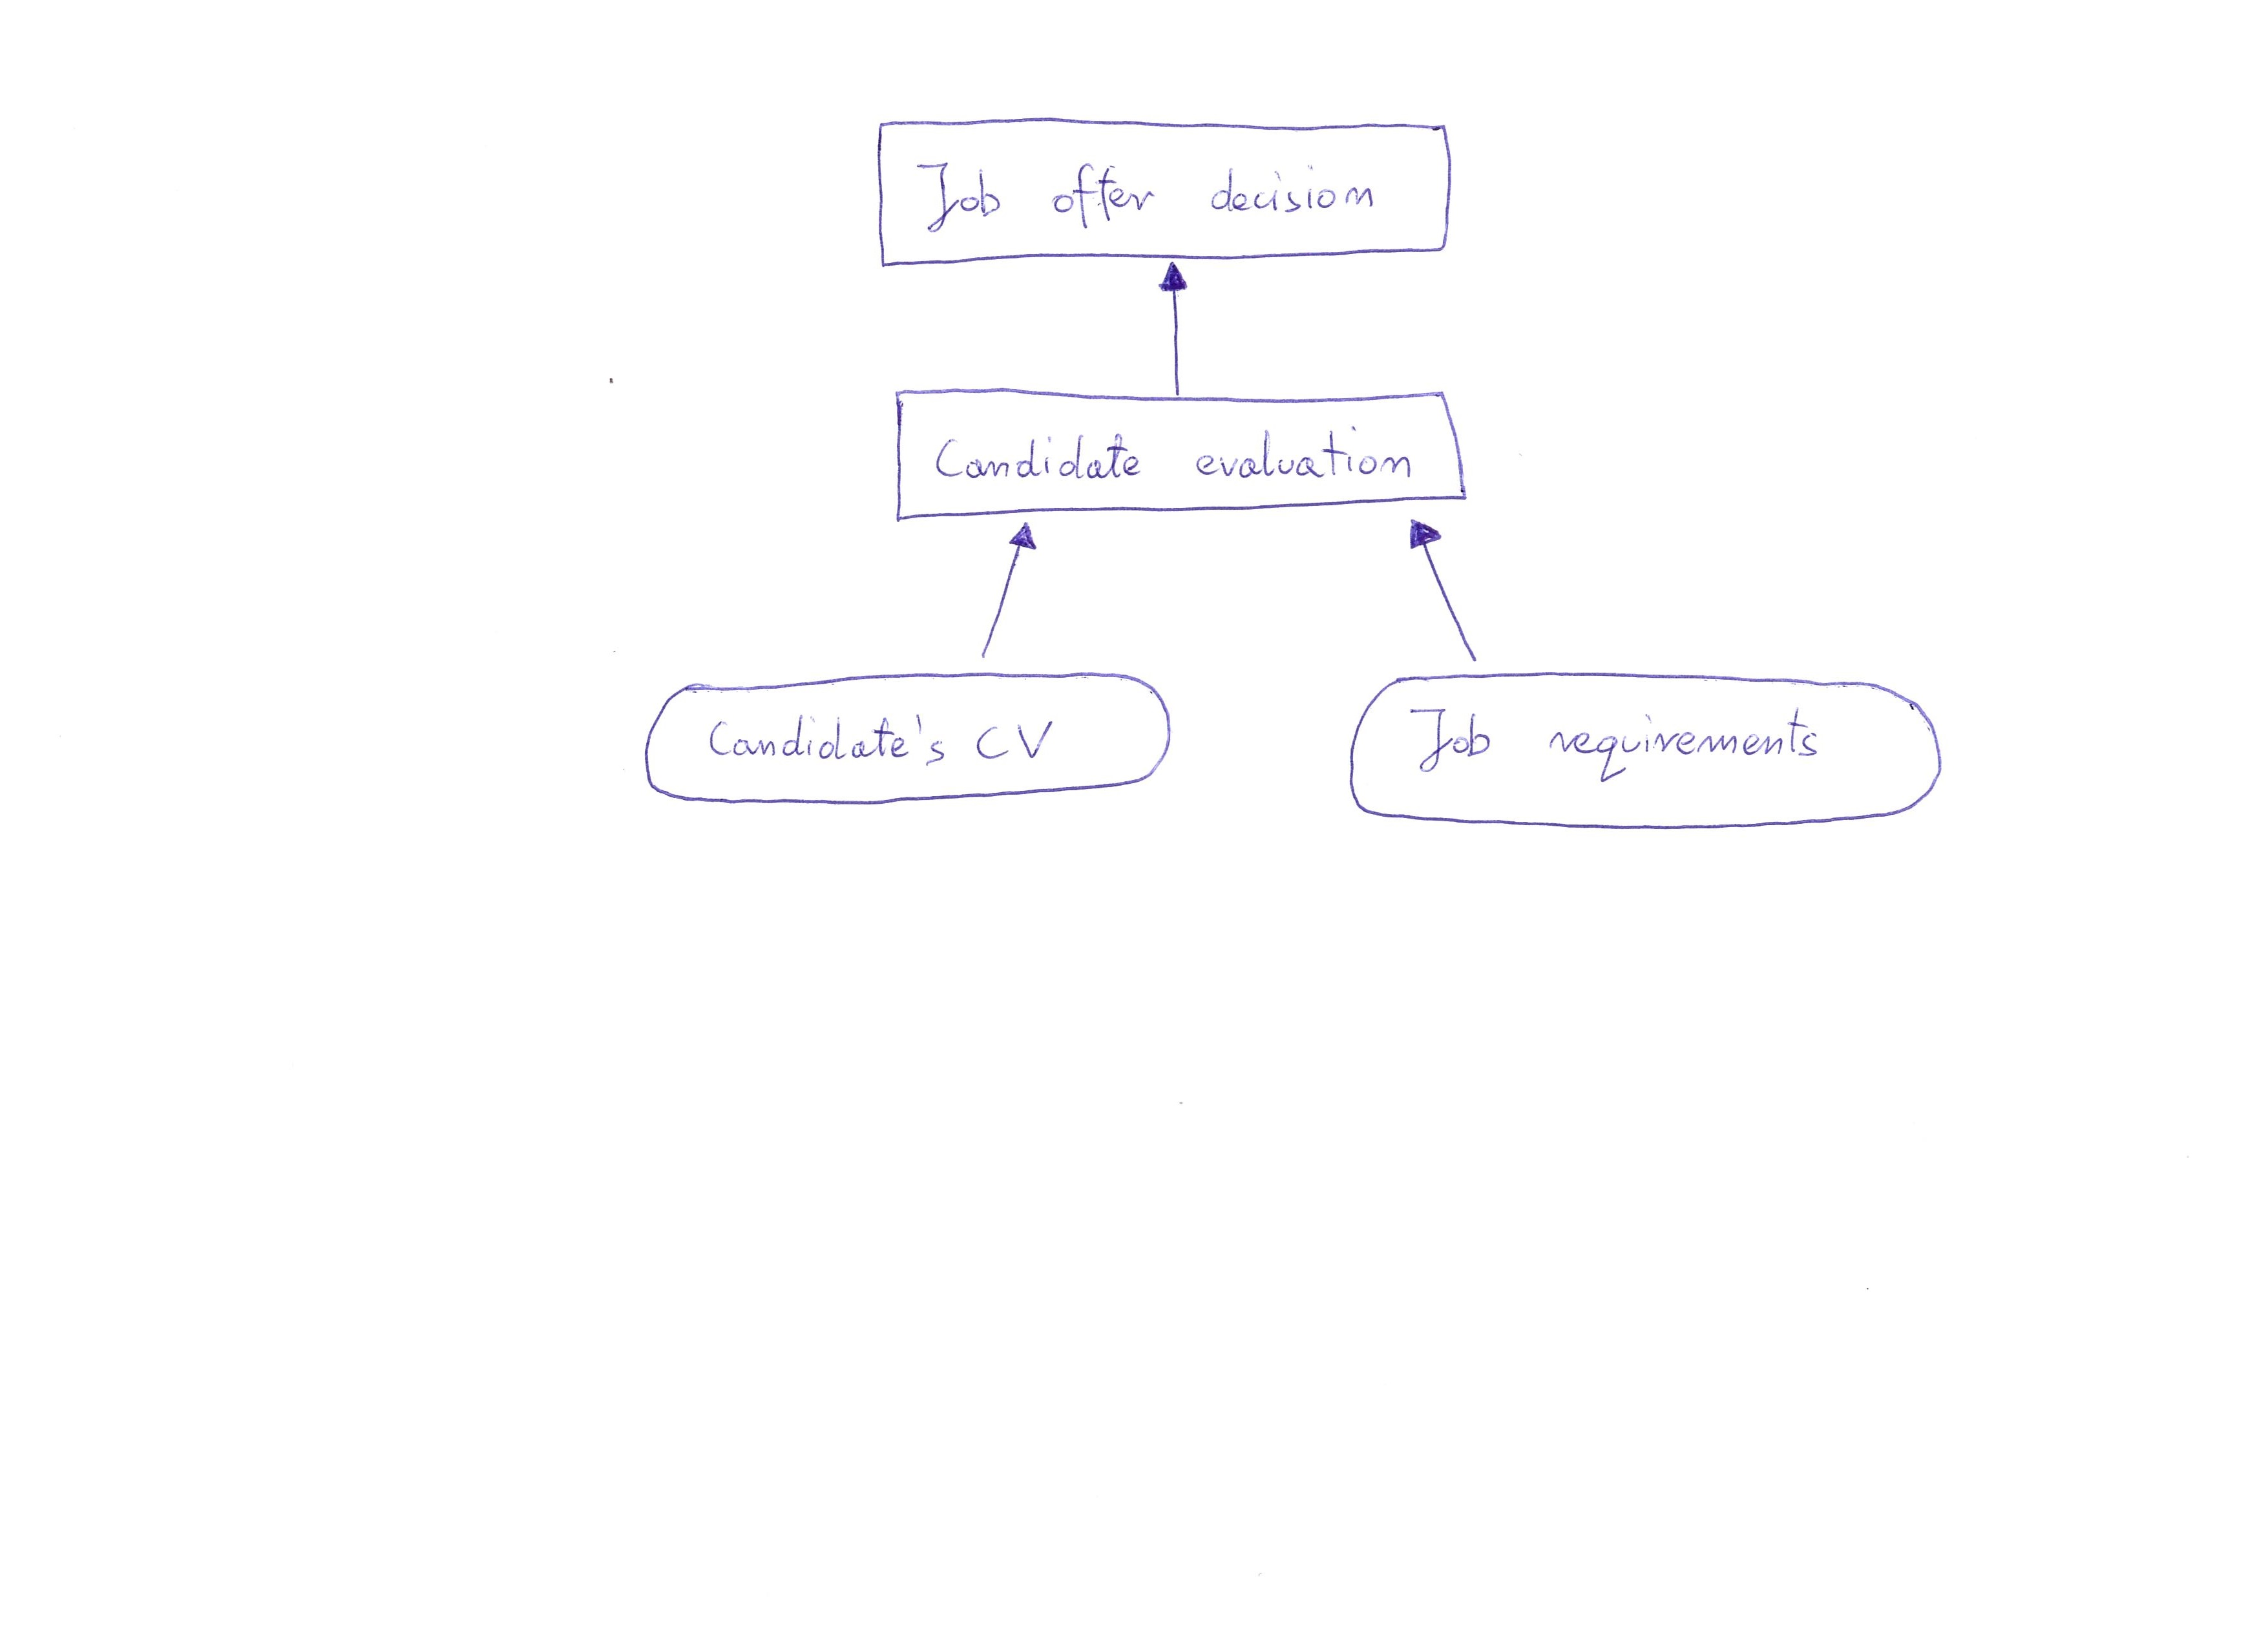arrow_information_requirement: (1386, 514, 1507, 666), (977, 518, 1048, 664), (1146, 257, 1211, 398)
node_decision: (870, 109, 1460, 268), (884, 382, 1483, 520)
node_input_data: (1342, 666, 1969, 844), (622, 664, 1194, 821)
text: (907, 150, 1407, 233), (1400, 699, 1840, 793), (928, 425, 1425, 490), (697, 705, 1074, 780)
